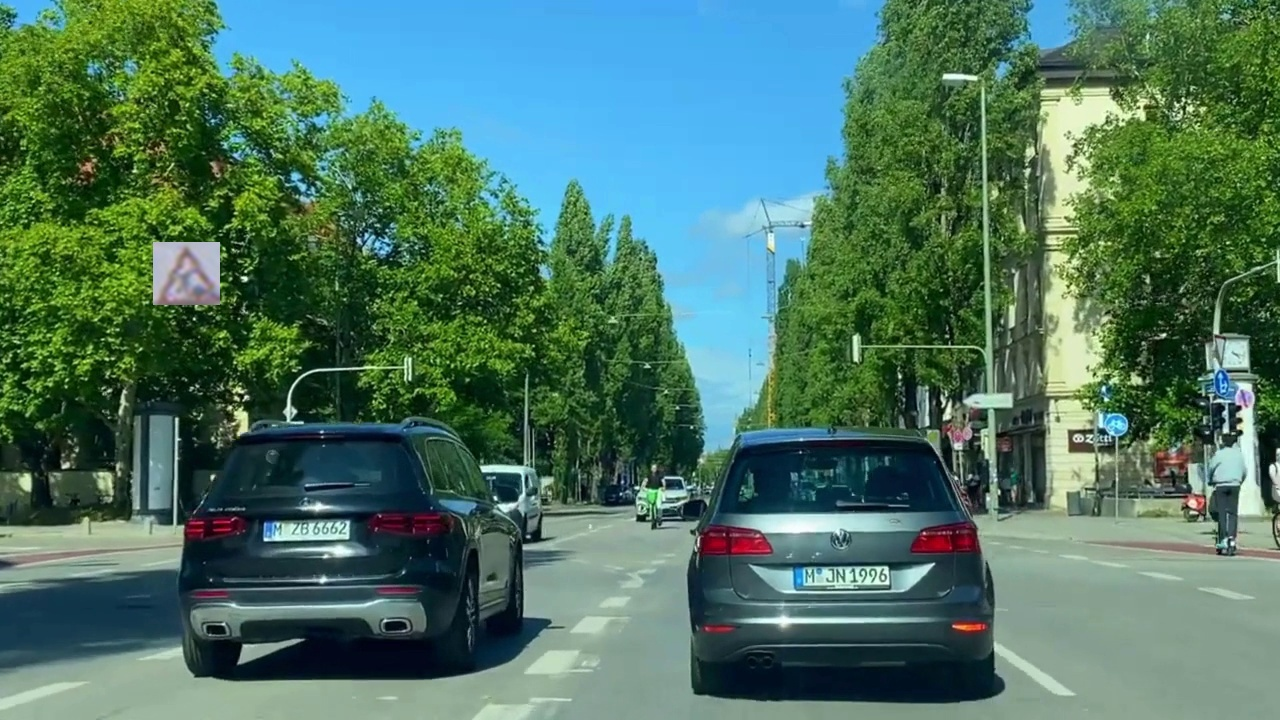Road work: (153, 242, 220, 305)
